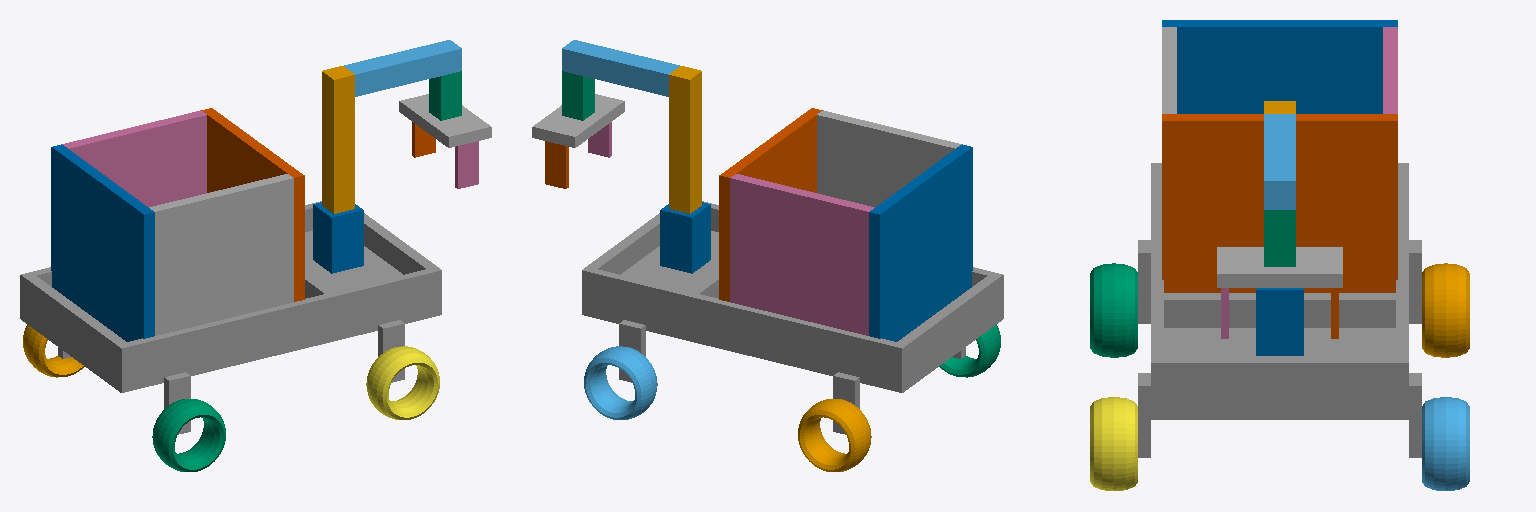
robot.urdf — robot1:
<?xml version="1.0"?>
<!-- created with Phobos 1.0.1 "Capricious Choutengan" -->
  <robot name="robot1">

    <link name="arm1">
      <inertial>
        <origin xyz="0 0.62709 0" rpy="0 0 0"/>
        <mass value="4.0"/>
        <inertia ixx="1e-05" ixy="0" ixz="0" iyy="0.00044" iyz="0" izz="2e-05"/>
      </inertial>
      <visual name="Cube.006">
        <origin xyz="0 0.62709 0" rpy="-1.5708 0 0"/>
        <geometry>
          <box size="0.2 0.2 1.2"/>
        </geometry>
      </visual>
      <collision name="Cube.006.000">
        <origin xyz="0 0.62709 0" rpy="-1.5708 0 0"/>
        <geometry>
          <box size="0.2 0.2 1.2"/>
        </geometry>
      </collision>
    </link>

    <link name="arm2">
      <inertial>
        <origin xyz="0.6 0 0" rpy="0 0 0"/>
        <mass value="2.0"/>
        <inertia ixx="0.00083" ixy="0" ixz="0" iyy="2e-05" iyz="0" izz="2e-05"/>
      </inertial>
      <visual name="Cube.007">
        <origin xyz="0.6 0 0" rpy="0 0 0"/>
        <geometry>
          <box size="1.0 0.2 0.2"/>
        </geometry>
      </visual>
      <collision name="Cube.007">
        <origin xyz="0.6 0 0" rpy="0 0 0"/>
        <geometry>
          <box size="1.0 0.2 0.2"/>
        </geometry>
      </collision>
    </link>

    <link name="arm3">
      <inertial>
        <origin xyz="0 -0.3 0" rpy="0 0 0"/>
        <mass value="1.0"/>
        <inertia ixx="2e-05" ixy="0" ixz="0" iyy="2e-05" iyz="0" izz="2e-05"/>
      </inertial>
      <visual name="Cube.008">
        <origin xyz="0 -0.3 0" rpy="-1.5708 0 0"/>
        <geometry>
          <box size="0.2 0.2 0.4"/>
        </geometry>
      </visual>
      <collision name="Cube.008">
        <origin xyz="0 -0.3 0" rpy="-1.5708 0 0"/>
        <geometry>
          <box size="0.2 0.2 0.4"/>
        </geometry>
      </collision>
    </link>

    <link name="base">
      <inertial>
        <origin xyz="0 0 0" rpy="0 0 0"/>
        <mass value="150.0"/>
        <inertia ixx="37.11703" ixy="10.21381" ixz="0" iyy="63.78499" iyz="0" izz="72.02697"/>
      </inertial>
      <visual name="Cube.000.000">
        <origin xyz="0 0 0" rpy="1.5708 0 0"/>
        <geometry>
          <mesh filename="../meshes/dae/Cube.025.dae" scale="1.0 1.0 0.81818"/>
        </geometry>
        <material name="Material"/>
      </visual>
      <collision name="Cube.000.000.000">
        <origin xyz="0 0 0" rpy="1.5708 0 0"/>
        <geometry>
          <mesh filename="../meshes/dae/Cube.027.dae" scale="1.0 1.0 0.81818"/>
        </geometry>
      </collision>
    </link>

    <link name="base_arm">
      <inertial>
        <origin xyz="0 0 0" rpy="0 0 0"/>
        <mass value="1.0"/>
        <inertia ixx="0.00013" ixy="0" ixz="0" iyy="0.00041" iyz="0" izz="0.00013"/>
      </inertial>
      <visual name="Cube.005">
        <origin xyz="0 0 0" rpy="0 0 0"/>
        <geometry>
          <box size="0.3 0.3 0.5"/>
        </geometry>
      </visual>
      <collision name="Cube.005.000">
        <origin xyz="0 0 0" rpy="0 0 0"/>
        <geometry>
          <mesh filename="../meshes/dae/Cube.071.dae" scale="0.6 0.4 1.0"/>
        </geometry>
      </collision>
    </link>

    <link name="claw_1">
      <inertial>
        <origin xyz="0 -0.25 0" rpy="0 0 0"/>
        <mass value="0.2"/>
        <inertia ixx="2e-05" ixy="0" ixz="0" iyy="2e-05" iyz="0" izz="2e-05"/>
      </inertial>
      <visual name="Cube.011">
        <origin xyz="0 -0.25 0" rpy="-1.5708 0 0"/>
        <geometry>
          <box size="0.2 0.05 0.4"/>
        </geometry>
      </visual>
      <collision name="Cube.011">
        <origin xyz="0 -0.25 0" rpy="-1.5708 0 0"/>
        <geometry>
          <box size="0.2 0.05 0.4"/>
        </geometry>
      </collision>
    </link>

    <link name="claw_2">
      <inertial>
        <origin xyz="0 0.25 0" rpy="0 0 0"/>
        <mass value="0.2"/>
        <inertia ixx="2e-05" ixy="0" ixz="0" iyy="2e-05" iyz="0" izz="2e-05"/>
      </inertial>
      <visual name="Cube.010">
        <origin xyz="0 0.25 0" rpy="1.5708 0 0"/>
        <geometry>
          <box size="0.2 0.05 0.4"/>
        </geometry>
      </visual>
      <collision name="Cube.010">
        <origin xyz="0 0.25 0" rpy="1.5708 0 0"/>
        <geometry>
          <box size="0.2 0.05 0.4"/>
        </geometry>
      </collision>
    </link>

    <link name="end_effector">
      <inertial>
        <origin xyz="0 0 0" rpy="0 0 0"/>
        <mass value="1.5"/>
        <inertia ixx="0.00013" ixy="0" ixz="0" iyy="0.00054" iyz="0" izz="1e-05"/>
      </inertial>
      <visual name="Cube.009">
        <origin xyz="0 0 0" rpy="0 0 0"/>
        <geometry>
          <box size="0.4 0.8 0.1"/>
        </geometry>
      </visual>
      <collision name="Cube.009">
        <origin xyz="0 0 0" rpy="0 0 0"/>
        <geometry>
          <box size="0.4 0.8 0.1"/>
        </geometry>
      </collision>
    </link>

    <link name="left_b_wheel">
      <inertial>
        <origin xyz="0 0 0" rpy="0 0 0"/>
        <mass value="2.0"/>
        <inertia ixx="0.01936" ixy="0" ixz="0" iyy="0.03745" iyz="0" izz="0.7564"/>
      </inertial>
      <visual name="Torus.000">
        <origin xyz="0 0 0" rpy="-3.14159 0 0"/>
        <geometry>
          <mesh filename="../meshes/dae/Torus.004.dae" scale="0.24 0.24 0.6"/>
        </geometry>
      </visual>
      <collision name="Torus.000.000">
        <origin xyz="0 0 0" rpy="-3.14159 0 0"/>
        <geometry>
          <mesh filename="../meshes/dae/Torus.005.dae" scale="0.6 0.6 0.6"/>
        </geometry>
      </collision>
    </link>

    <link name="left_f_wheel">
      <inertial>
        <origin xyz="0 0 0" rpy="0 0 0"/>
        <mass value="2.0"/>
        <inertia ixx="0.01936" ixy="0" ixz="0" iyy="0.03745" iyz="0" izz="0.7564"/>
      </inertial>
      <visual name="Torus.003">
        <origin xyz="0 0 0" rpy="0 0 0"/>
        <geometry>
          <mesh filename="../meshes/dae/Torus.003.dae" scale="0.24 0.24 0.6"/>
        </geometry>
      </visual>
      <collision name="Torus.003.000">
        <origin xyz="0 0 0" rpy="0 0 0"/>
        <geometry>
          <mesh filename="../meshes/dae/Torus.006.dae" scale="0.6 0.6 0.6"/>
        </geometry>
      </collision>
    </link>

    <link name="right_b_wheel">
      <inertial>
        <origin xyz="0 0 0" rpy="0 0 0"/>
        <mass value="2.0"/>
        <inertia ixx="0.01936" ixy="0" ixz="0" iyy="0.03745" iyz="0" izz="0.7564"/>
      </inertial>
      <visual name="Torus.001">
        <origin xyz="0 0 0" rpy="-3.14159 0 0"/>
        <geometry>
          <mesh filename="../meshes/dae/Torus.007.dae" scale="0.24 0.24 0.6"/>
        </geometry>
      </visual>
      <collision name="Torus.001.000">
        <origin xyz="0 0 0" rpy="-3.14159 0 0"/>
        <geometry>
          <mesh filename="../meshes/dae/Torus.008.dae" scale="0.6 0.6 0.6"/>
        </geometry>
      </collision>
    </link>

    <link name="right_f_wheel">
      <inertial>
        <origin xyz="0 0 0" rpy="0 0 0"/>
        <mass value="2.0"/>
        <inertia ixx="0.14197" ixy="0" ixz="0" iyy="0.23407" iyz="0" izz="0.14197"/>
      </inertial>
      <visual name="Torus.002">
        <origin xyz="0 0 0" rpy="-3.14159 0 0"/>
        <geometry>
          <mesh filename="../meshes/dae/Torus.002.dae" scale="0.24 0.24 0.6"/>
        </geometry>
      </visual>
      <collision name="Torus.002.000">
        <origin xyz="0 0 0" rpy="-3.14159 0 0"/>
        <geometry>
          <mesh filename="../meshes/dae/Torus.000.dae" scale="0.6 0.6 0.6"/>
        </geometry>
      </collision>
    </link>

    <link name="zback_box">
      <inertial>
        <origin xyz="0 0 0" rpy="0 0 0"/>
        <mass value="0.001"/>
        <inertia ixx="0.001" ixy="0" ixz="0" iyy="0.001" iyz="0" izz="0.001"/>
      </inertial>
      <visual name="Cube">
        <origin xyz="0 0 0" rpy="0 0 0"/>
        <geometry>
          <box size="0.1 1.5 1.35"/>
        </geometry>
      </visual>
      <collision name="Cube.000">
        <origin xyz="0 0 0" rpy="0 0 0"/>
        <geometry>
          <mesh filename="../meshes/dae/Cube.033.dae" scale="1.0 1.0 1.0"/>
        </geometry>
      </collision>
    </link>

    <link name="zfront_box">
      <inertial>
        <origin xyz="0 0 0" rpy="0 0 0"/>
        <mass value="0.001"/>
        <inertia ixx="0.001" ixy="0" ixz="0" iyy="0.001" iyz="0" izz="0.001"/>
      </inertial>
      <visual name="Cube.002">
        <origin xyz="0 0 0" rpy="0 0 0"/>
        <geometry>
          <box size="0.1 1.5 1.35"/>
        </geometry>
      </visual>
      <collision name="Cube.002.000">
        <origin xyz="0 0 0" rpy="0 0 0"/>
        <geometry>
          <mesh filename="../meshes/dae/Cube.034.dae" scale="1.0 1.0 1.0"/>
        </geometry>
      </collision>
    </link>

    <link name="zleft_box">
      <inertial>
        <origin xyz="0 0 0" rpy="0 0 0"/>
        <mass value="0.001"/>
        <inertia ixx="0.001" ixy="0" ixz="0" iyy="0.001" iyz="0" izz="0.001"/>
      </inertial>
      <visual name="Cube.003">
        <origin xyz="0 0 0" rpy="0 0 0"/>
        <geometry>
          <box size="0.1 1.3 1.35"/>
        </geometry>
      </visual>
      <collision name="Cube.003.000">
        <origin xyz="0 0 0" rpy="0 0 0"/>
        <geometry>
          <mesh filename="../meshes/dae/Cube.032.dae" scale="1.0 1.0 1.0"/>
        </geometry>
      </collision>
    </link>

    <link name="zright_box">
      <inertial>
        <origin xyz="0 0 0" rpy="0 0 0"/>
        <mass value="0.001"/>
        <inertia ixx="0.001" ixy="0" ixz="0" iyy="0.001" iyz="0" izz="0.001"/>
      </inertial>
      <visual name="Cube.004">
        <origin xyz="0 0 0" rpy="0 0 0"/>
        <geometry>
          <box size="0.1 1.3 1.35"/>
        </geometry>
      </visual>
      <collision name="Cube.004.000">
        <origin xyz="0 0 0" rpy="0 0 0"/>
        <geometry>
          <mesh filename="../meshes/dae/Cube.035.dae" scale="1.0 1.0 1.0"/>
        </geometry>
      </collision>
    </link>

    <joint name="arm1" type="continuous">
      <origin xyz="0 0 0.22291" rpy="1.5708 0 0"/>
      <parent link="base_arm"/>
      <child link="arm1"/>
      <axis xyz="0 0 1.0"/>
      <limit effort="0" velocity="0"/>
    </joint>

    <joint name="arm2" type="continuous">
      <origin xyz="0 1.12709 0" rpy="-1.5708 0 0"/>
      <parent link="arm1"/>
      <child link="arm2"/>
      <axis xyz="0 0 1.0"/>
      <limit effort="0" velocity="0"/>
    </joint>

    <joint name="arm3" type="continuous">
      <origin xyz="1.0 0 0" rpy="1.5708 0 0"/>
      <parent link="arm2"/>
      <child link="arm3"/>
      <axis xyz="0 0 1.0"/>
      <limit effort="0" velocity="0"/>
    </joint>

    <joint name="base_arm" type="continuous">
      <origin xyz="1.0 0 0.4" rpy="0 0 0"/>
      <parent link="base"/>
      <child link="base_arm"/>
      <axis xyz="0 0 1.0"/>
      <limit effort="0" velocity="0"/>
    </joint>

    <joint name="claw_1" type="prismatic">
      <origin xyz="0 0.35 0" rpy="1.5708 0 0"/>
      <parent link="end_effector"/>
      <child link="claw_1"/>
      <axis xyz="0 0 1.0"/>
      <limit lower="-1.0" upper="1.0" effort="0" velocity="0"/>
    </joint>

    <joint name="claw_2" type="prismatic">
      <origin xyz="0 -0.35 0" rpy="-1.5708 0 0"/>
      <parent link="end_effector"/>
      <child link="claw_2"/>
      <axis xyz="0 0 1.0"/>
      <limit lower="-1.0" upper="1.0" effort="0" velocity="0"/>
    </joint>

    <joint name="end_effector" type="continuous">
      <origin xyz="0 -0.55 0" rpy="-1.5708 0 0"/>
      <parent link="arm3"/>
      <child link="end_effector"/>
      <axis xyz="0 0 1.0"/>
      <limit effort="0" velocity="0"/>
    </joint>

    <joint name="left_b_wheel" type="continuous">
      <origin xyz="-1.0 1.05 -0.5" rpy="-1.5708 0 0"/>
      <parent link="base"/>
      <child link="left_b_wheel"/>
      <axis xyz="0 0 1.0"/>
      <limit effort="0" velocity="0"/>
    </joint>

    <joint name="left_f_wheel" type="continuous">
      <origin xyz="1.0 1.05 -0.5" rpy="-1.5708 0 0"/>
      <parent link="base"/>
      <child link="left_f_wheel"/>
      <axis xyz="0 0 1.0"/>
      <limit effort="0" velocity="0"/>
    </joint>

    <joint name="right_b_wheel" type="continuous">
      <origin xyz="-1.0 -1.05 -0.5" rpy="-1.5708 0 0"/>
      <parent link="base"/>
      <child link="right_b_wheel"/>
      <axis xyz="0 0 1.0"/>
      <limit effort="0" velocity="0"/>
    </joint>

    <joint name="right_f_wheel" type="continuous">
      <origin xyz="1.0 -1.05 -0.5" rpy="-1.5708 0 0"/>
      <parent link="base"/>
      <child link="right_f_wheel"/>
      <axis xyz="0 0 1.0"/>
      <limit effort="0" velocity="0"/>
    </joint>

    <joint name="zback_box" type="fixed">
      <origin xyz="-1.2 0 0.735" rpy="0 0 0"/>
      <parent link="base"/>
      <child link="zback_box"/>
    </joint>

    <joint name="zfront_box" type="fixed">
      <origin xyz="0.2 0 0.735" rpy="0 0 0"/>
      <parent link="base"/>
      <child link="zfront_box"/>
    </joint>

    <joint name="zleft_box" type="fixed">
      <origin xyz="-0.5 0.7 0.735" rpy="0 0 1.5708"/>
      <parent link="base"/>
      <child link="zleft_box"/>
    </joint>

    <joint name="zright_box" type="fixed">
      <origin xyz="-0.5 -0.7 0.735" rpy="0 0 1.5708"/>
      <parent link="base"/>
      <child link="zright_box"/>
    </joint>

    <material name="Material">
      <color rgba="0.64 0.64 0.64 1.0"/>
    </material>

  </robot>

--- Render facts (derived) ---
The picture shows the robot from 3 angles, left to right: view 1: azimuth 30°, elevation 25°; view 2: azimuth 150°, elevation 25°; view 3: azimuth 270°, elevation 25°; orthographic projection.
Robot: robot1 — 16 links, 15 joints (9 continuous, 2 prismatic, 4 fixed); root link base; default pose: all joints at 0.
Visible links, largest first — view 1: base, zright_box, zback_box, zleft_box, zfront_box, arm1, arm2, right_f_wheel, right_b_wheel, base_arm, end_effector, left_b_wheel (+3 smaller); view 2: base, zleft_box, zback_box, zright_box, zfront_box, arm1, arm2, left_f_wheel, left_b_wheel, base_arm, end_effector, right_b_wheel (+3 smaller); view 3: base, zfront_box, zback_box, end_effector, left_b_wheel, right_b_wheel, left_f_wheel, right_f_wheel, base_arm, arm2, arm3, zleft_box (+1 smaller).
Boxes of the visible links, x1,y1,x2,y2 form: base: (20,201,441,434); zright_box: (149,174,293,335); zback_box: (51,144,154,341); zleft_box: (62,110,206,206); zfront_box: (201,108,304,301); arm1: (322,66,354,213); arm2: (344,40,461,96); right_f_wheel: (366,346,439,419); right_b_wheel: (152,399,225,471); base_arm: (313,202,363,273); end_effector: (399,94,491,147); left_b_wheel: (23,324,84,377); base: (582,201,1003,434); zleft_box: (730,174,874,335); zback_box: (869,144,972,341); zright_box: (817,110,961,206); zfront_box: (719,108,822,301); arm1: (669,66,701,213); arm2: (562,40,679,96); left_f_wheel: (584,346,657,419); left_b_wheel: (798,399,871,471); base_arm: (660,202,710,273); end_effector: (532,94,624,147); right_b_wheel: (939,324,1000,377); base: (1138,163,1421,457); zfront_box: (1162,114,1397,292); zback_box: (1162,20,1397,113); end_effector: (1217,247,1342,287); left_b_wheel: (1422,263,1469,357); right_b_wheel: (1090,263,1137,357); left_f_wheel: (1422,397,1469,490); right_f_wheel: (1090,397,1137,490); base_arm: (1256,288,1303,355); arm2: (1264,114,1295,209); arm3: (1264,210,1295,266); zleft_box: (1383,27,1397,113).
Bounding box of the posed robot: 3.7 × 2.4 × 2.65 m (x, y, z).
5 mesh visuals loaded from 5 distinct referenced files (5 Collada DAE).